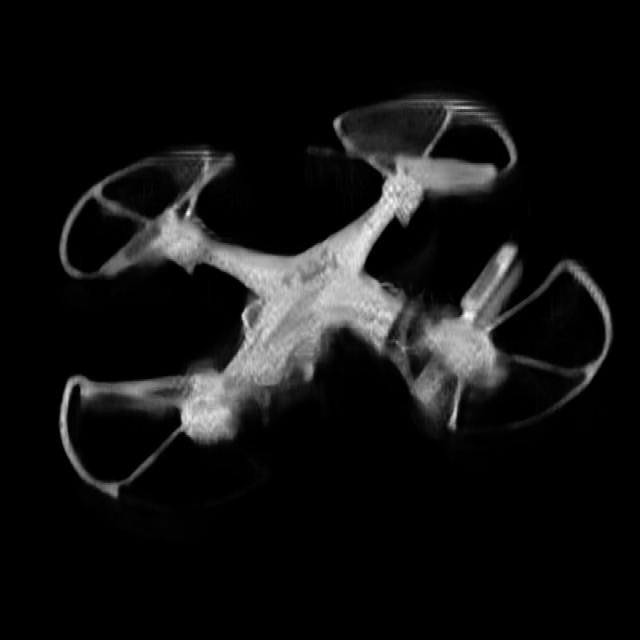drone: (48, 85, 616, 512)
